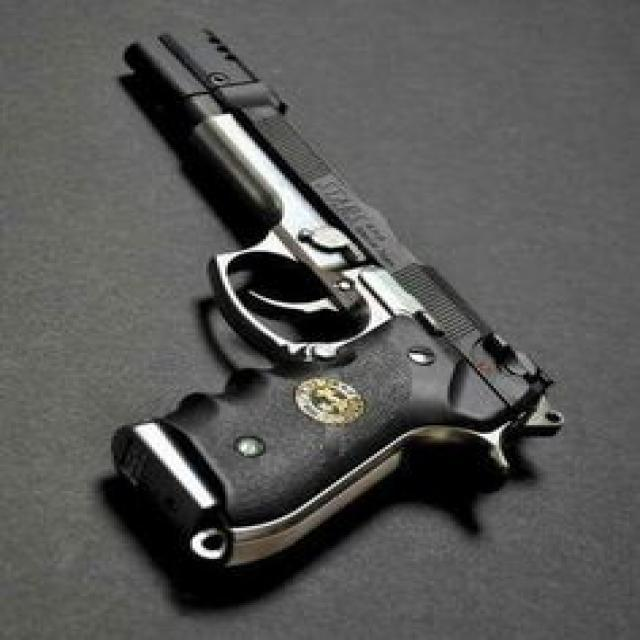semi automatic: (69, 19, 586, 618)
